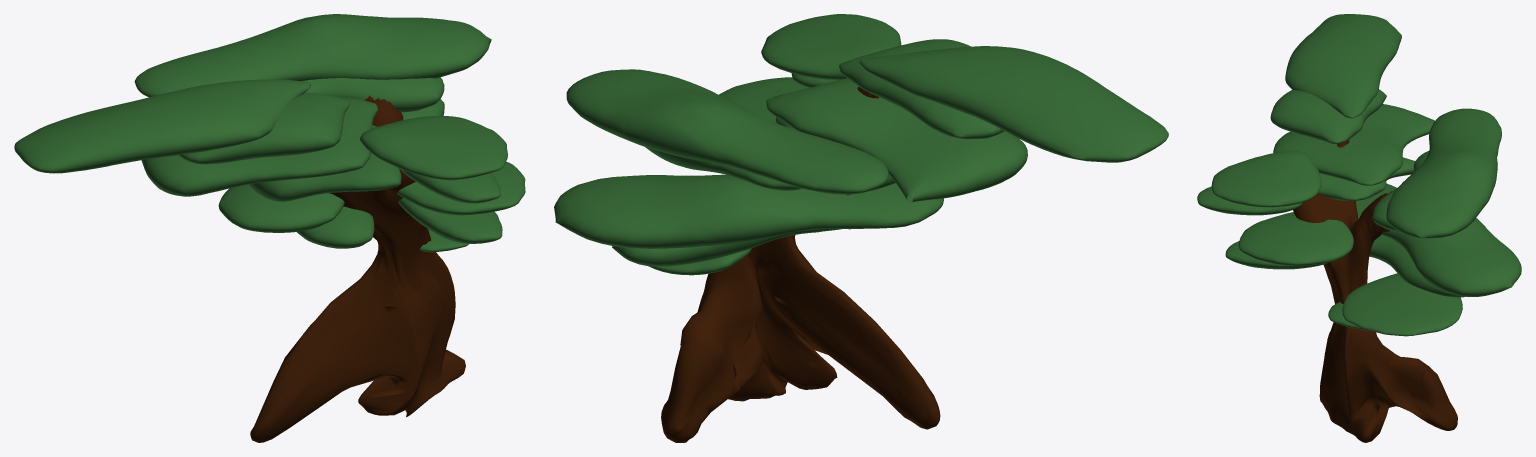
File: unitree 2.fbx
3 renders of one model, left to right at view 1: azimuth 30°, elevation 25°; view 2: azimuth 150°, elevation 25°; view 3: azimuth 270°, elevation 25°, orthographic. The views are drawn at different scales.
Parts seen in each view (by area): view 1: Mball.001; view 2: Mball.001; view 3: Mball.001.
Part boxes in pixels (<box>): Mball.001: <box>14,14,525,442</box>; Mball.001: <box>554,14,1168,442</box>; Mball.001: <box>1197,14,1521,442</box>.
Bounding box in the file's own units: 1341 × 912 × 927.
